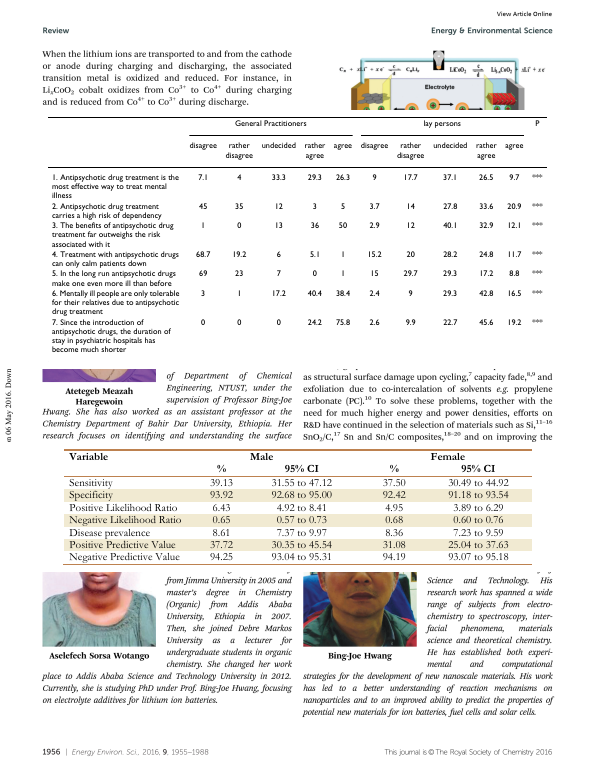borderless: (46, 115, 548, 363), (64, 447, 532, 564)
cell: (50, 318, 171, 355), (50, 289, 180, 317), (50, 173, 179, 201), (50, 221, 174, 250), (50, 269, 176, 289), (50, 250, 179, 269), (50, 202, 162, 221), (68, 515, 182, 527), (68, 552, 180, 564), (68, 502, 178, 514), (68, 540, 176, 552), (68, 527, 150, 539), (270, 478, 332, 490), (447, 478, 509, 490), (270, 490, 332, 502), (447, 490, 509, 502), (270, 540, 332, 552), (447, 540, 509, 552), (270, 552, 332, 564), (447, 552, 509, 564), (233, 119, 307, 129), (275, 502, 327, 514), (452, 502, 504, 514), (275, 515, 327, 527), (452, 515, 504, 527), (275, 527, 327, 539), (452, 527, 504, 539), (395, 142, 425, 161), (224, 142, 253, 161), (68, 478, 113, 490), (68, 490, 113, 502), (303, 142, 326, 161), (474, 142, 497, 161), (68, 451, 109, 461), (422, 119, 461, 129), (429, 451, 465, 461), (283, 464, 319, 473), (460, 464, 496, 473), (260, 142, 296, 151), (432, 142, 468, 151), (208, 478, 233, 490), (381, 478, 406, 490), (208, 490, 233, 502), (381, 490, 406, 502), (208, 540, 233, 552), (381, 540, 406, 552), (208, 552, 233, 564), (381, 552, 406, 564), (359, 142, 389, 151), (188, 142, 217, 151), (248, 451, 274, 461), (211, 502, 231, 514), (211, 515, 231, 527), (211, 527, 231, 539), (384, 502, 403, 514), (384, 515, 403, 527), (384, 527, 403, 539), (332, 142, 353, 151), (504, 142, 524, 151), (334, 289, 351, 299), (334, 318, 351, 328), (270, 173, 286, 183), (306, 173, 322, 183), (334, 173, 350, 183), (402, 173, 418, 183), (442, 173, 458, 183), (478, 173, 494, 183), (442, 202, 458, 212), (478, 202, 494, 212), (506, 202, 522, 212), (442, 221, 458, 231), (478, 221, 494, 231), (506, 221, 522, 231), (195, 250, 211, 260), (231, 250, 247, 260), (366, 250, 382, 260), (442, 250, 458, 260), (478, 250, 494, 260), (506, 250, 522, 260), (402, 269, 418, 279), (442, 269, 458, 279), (478, 269, 494, 279), (270, 289, 286, 299), (306, 289, 322, 299), (442, 289, 458, 299), (478, 289, 494, 299), (506, 289, 522, 299), (306, 318, 322, 328), (442, 318, 458, 328), (478, 318, 494, 328), (506, 318, 522, 328), (197, 173, 209, 183), (508, 173, 520, 183), (531, 173, 543, 183), (368, 202, 380, 212), (531, 202, 543, 212), (368, 221, 380, 231), (531, 221, 543, 231), (308, 250, 320, 260), (531, 250, 543, 260), (508, 269, 520, 279), (531, 269, 543, 279), (368, 289, 380, 299), (531, 289, 543, 299), (368, 318, 380, 328), (404, 318, 416, 328), (531, 318, 543, 328), (309, 221, 320, 231), (337, 221, 348, 231), (198, 202, 208, 212), (234, 202, 244, 212), (273, 202, 283, 212), (405, 202, 415, 212), (273, 221, 283, 231), (405, 221, 415, 231), (405, 250, 415, 260), (198, 269, 208, 279), (234, 269, 244, 279), (369, 269, 379, 279), (215, 464, 226, 473), (388, 464, 399, 473), (339, 202, 346, 212), (339, 250, 346, 260), (339, 269, 346, 279), (534, 119, 540, 129), (236, 173, 242, 183), (371, 173, 377, 183), (311, 202, 317, 212), (200, 221, 206, 231), (236, 221, 242, 231), (275, 250, 281, 260), (275, 269, 281, 279), (311, 269, 317, 279), (200, 289, 206, 299), (236, 289, 242, 299), (407, 289, 413, 299), (200, 318, 206, 328), (236, 318, 242, 328), (275, 318, 281, 328)
